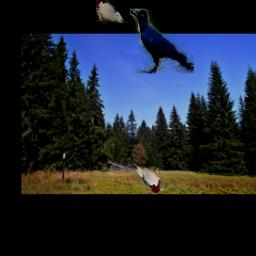Crow: (131, 9, 195, 74)
Woodpecker: (129, 165, 164, 193), (91, 0, 130, 24)
